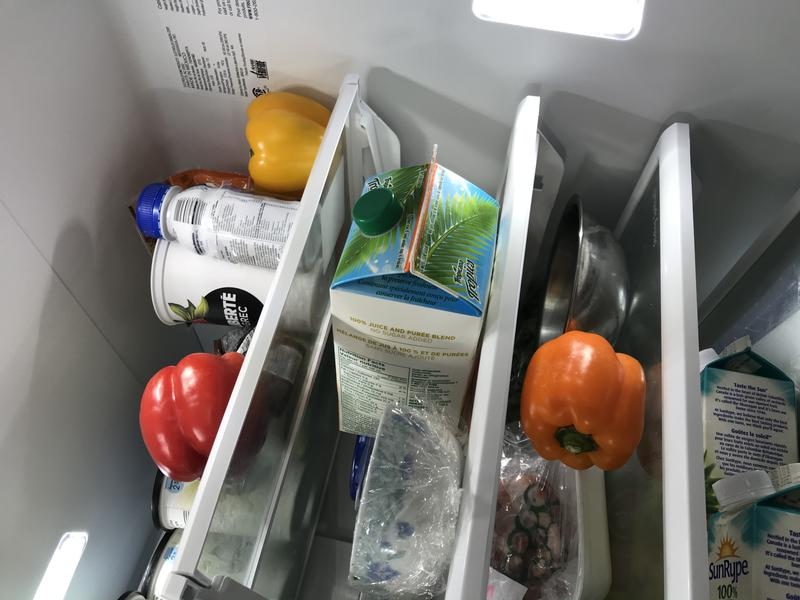orange_pepper: (514, 324, 653, 486)
red_pepper: (132, 344, 269, 484)
yellow_pepper: (236, 85, 350, 202)
